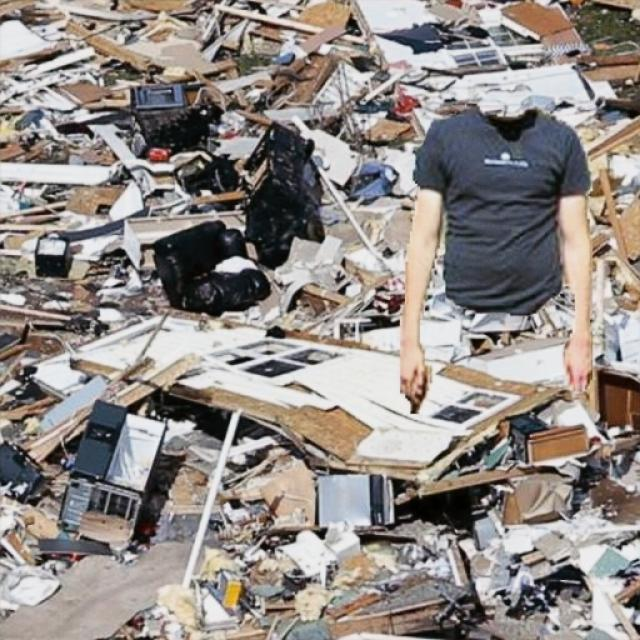Person in Rubble: (400, 104, 591, 412)
